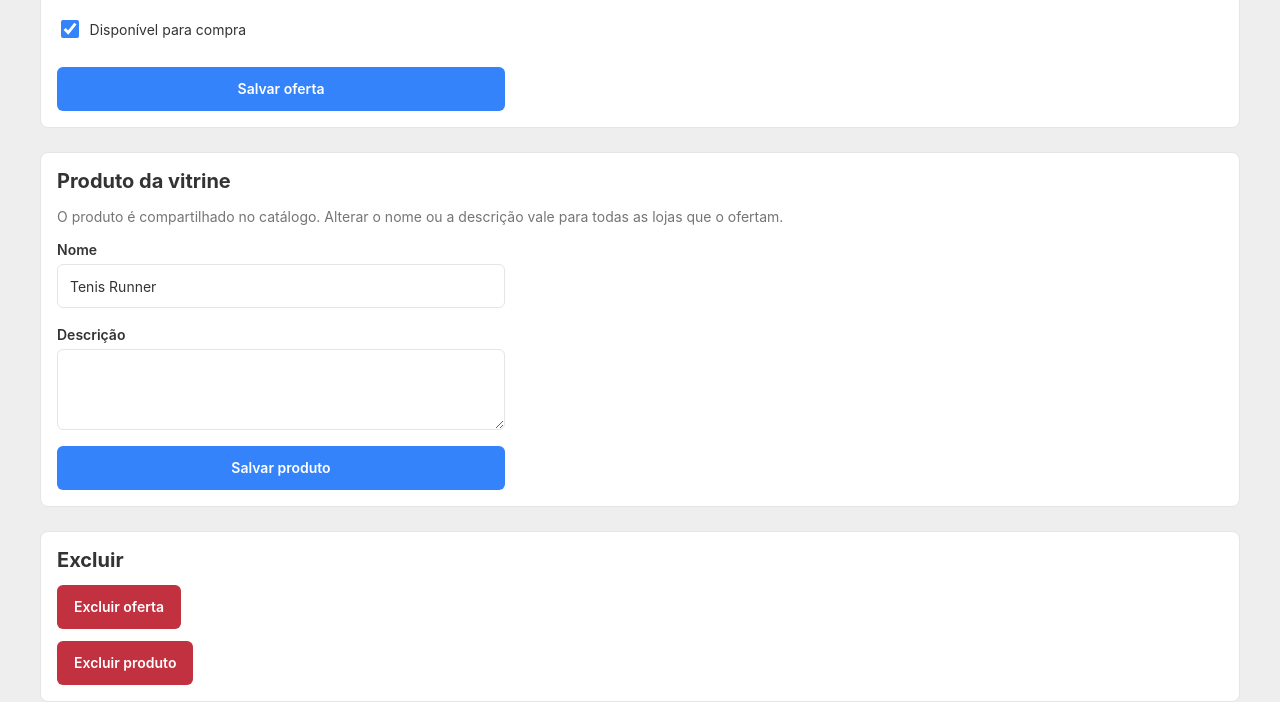
Test: seller offers › shows the 409 message when deleting an offer in use
(page scrolled)
Click the button "Excluir oferta" at [119, 607], box [57,585,181,629]
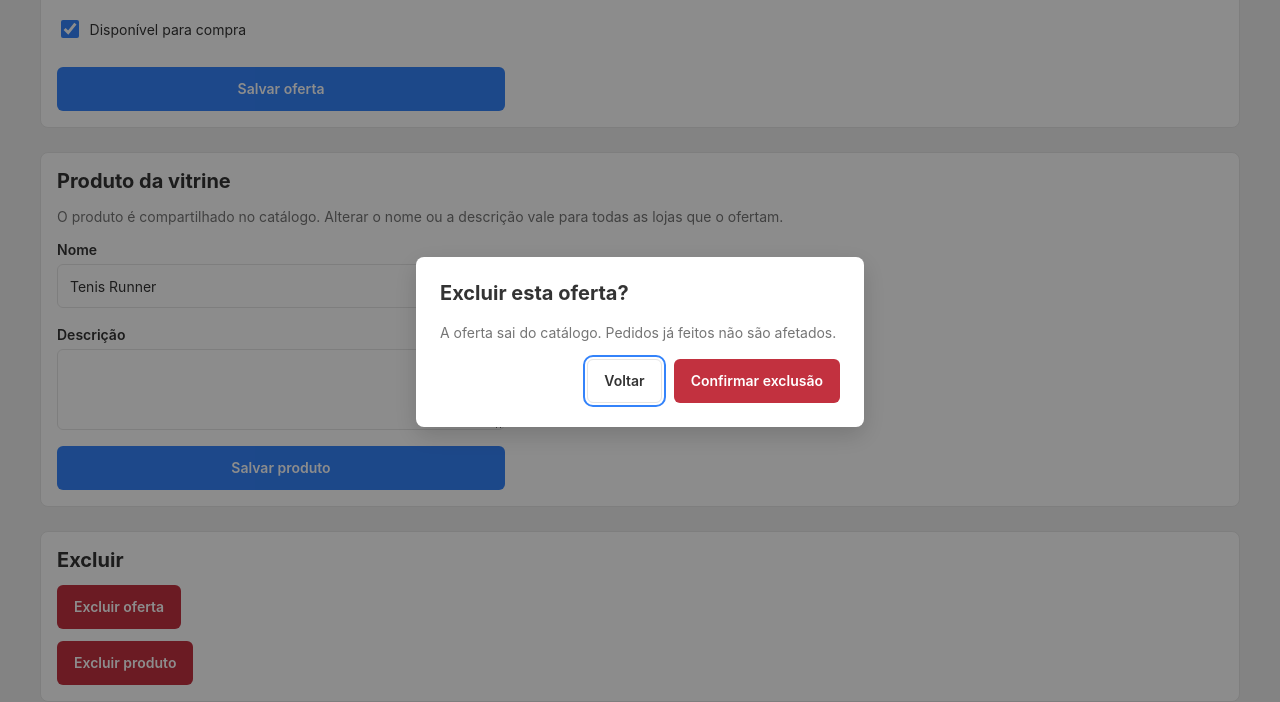
Click the button "Confirmar exclusão" at [757, 381], box [674,359,840,403]
(page scrolled)
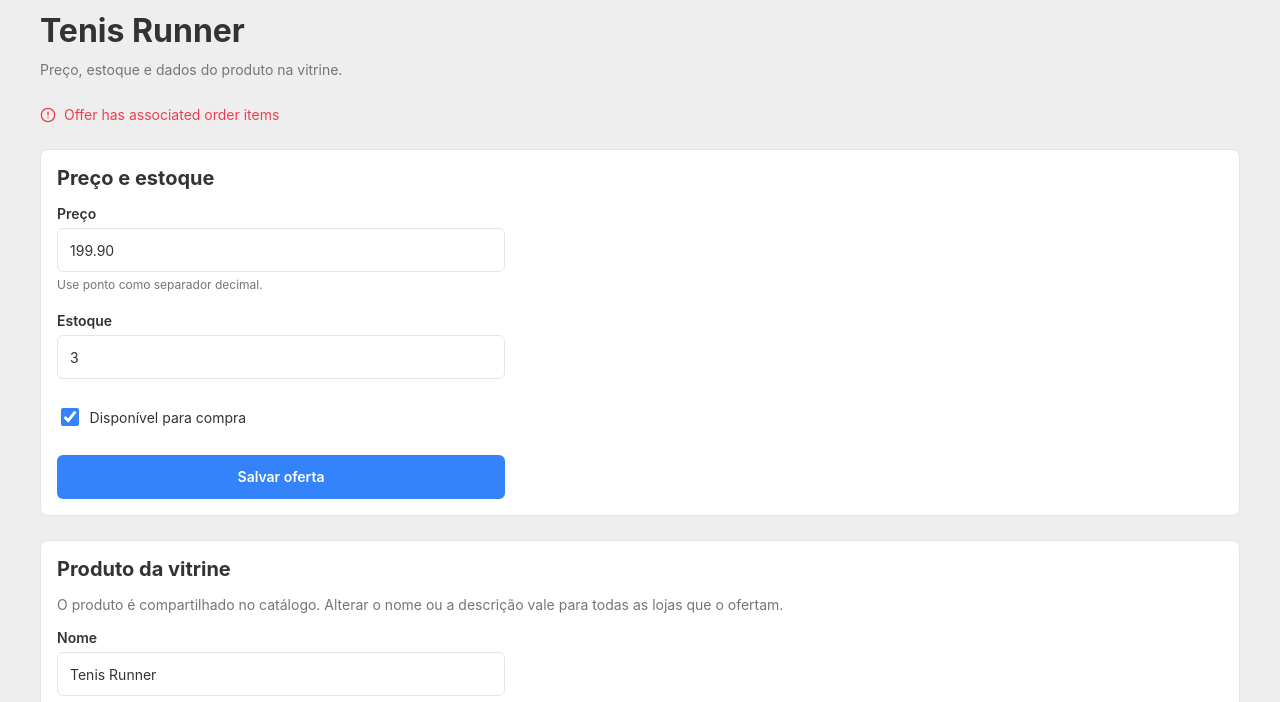
Check: the message reads "Offer has associated order items", box [64,106,279,123]
